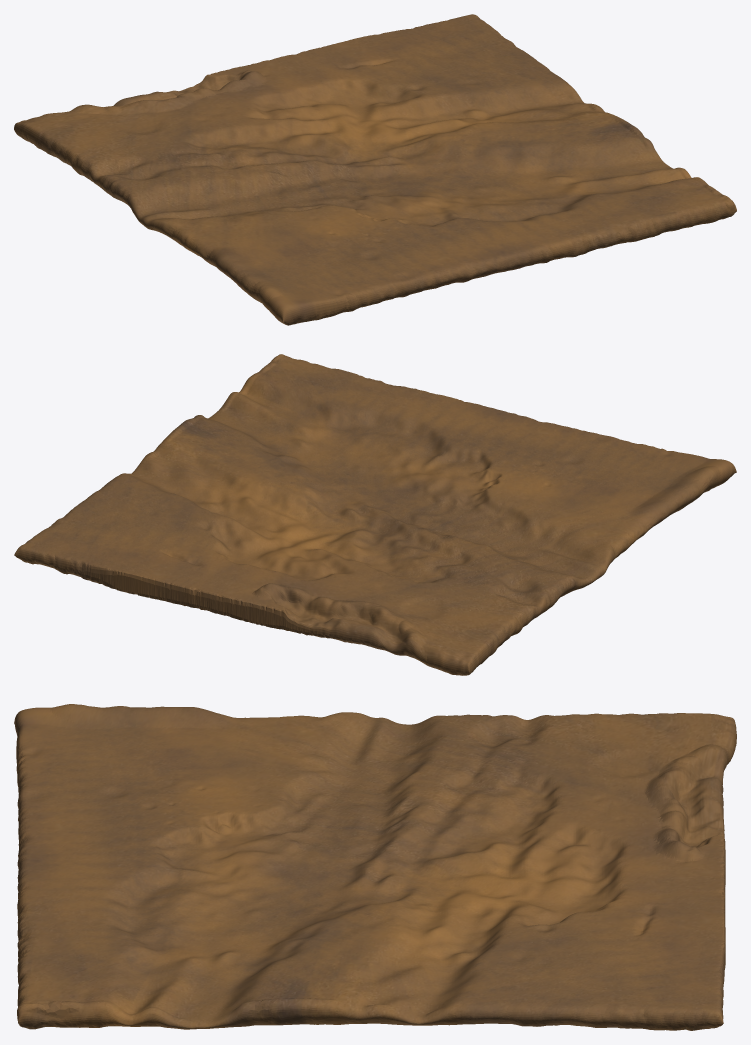
File: Mars - Opportunity Yolu.glb
3 renders of one model, top to bottom at view 1: azimuth 30°, elevation 25°; view 2: azimuth 150°, elevation 25°; view 3: azimuth 270°, elevation 25°, orthographic. The views are drawn at different scales.
Parts seen in each view (by area): view 1: Mars - Valles Marineris (part 2); view 2: Mars - Valles Marineris (part 2); view 3: Mars - Valles Marineris (part 2).
Boxes of the visible parts, x1,y1,x2,y2 form: Mars - Valles Marineris (part 2): [14, 14, 736, 325]; Mars - Valles Marineris (part 2): [14, 354, 736, 675]; Mars - Valles Marineris (part 2): [14, 704, 736, 1030].
Bounding box in the file's own units: 147 × 8.81 × 149.
